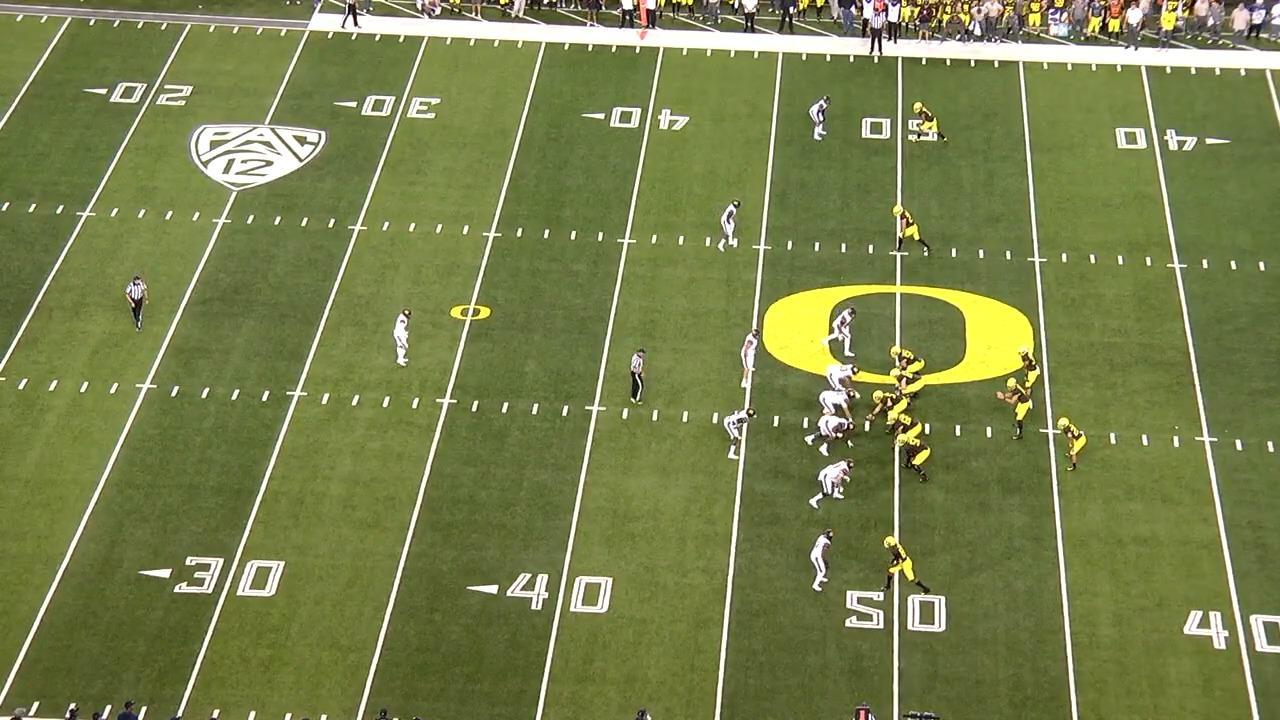defense: (810, 457, 859, 511), (807, 415, 857, 459), (824, 306, 860, 360), (721, 406, 754, 463), (810, 528, 838, 595), (739, 328, 768, 391), (392, 307, 416, 369), (715, 199, 742, 254), (823, 362, 862, 399), (817, 387, 856, 419), (810, 95, 835, 144)
oline: (893, 436, 934, 484), (871, 391, 913, 428), (889, 365, 926, 407), (887, 414, 930, 449), (887, 343, 928, 375)
qb: (997, 378, 1036, 442)
ref: (626, 347, 653, 407), (864, 6, 891, 60), (126, 276, 151, 334), (338, 0, 365, 32)
skill: (884, 534, 937, 596), (886, 205, 928, 261), (1056, 413, 1085, 473), (909, 99, 944, 144), (1016, 344, 1043, 401)
